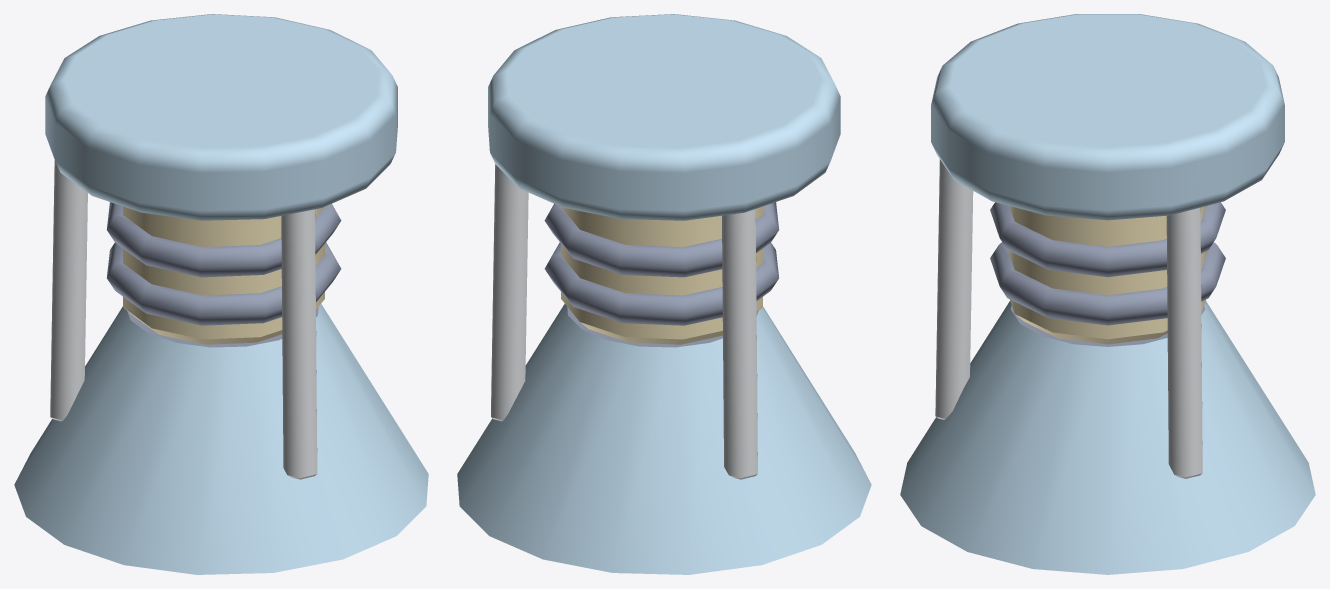
File: R4X_JumpDrive.glb
3 views of the same model, side by side, from view 1: azimuth 30°, elevation 25°; view 2: azimuth 150°, elevation 25°; view 3: azimuth 270°, elevation 25° (orthographic).
Visible parts, largest first — view 1: R4X_JumpDrive_Body; view 2: R4X_JumpDrive_Body; view 3: R4X_JumpDrive_Body.
Part boxes in pixels (x1=…): R4X_JumpDrive_Body: x1=14, y1=14, x2=428, y2=574; R4X_JumpDrive_Body: x1=457, y1=14, x2=871, y2=574; R4X_JumpDrive_Body: x1=900, y1=14, x2=1315, y2=574.
Bounding box in the file's own units: 0.466 × 0.51 × 0.468.
